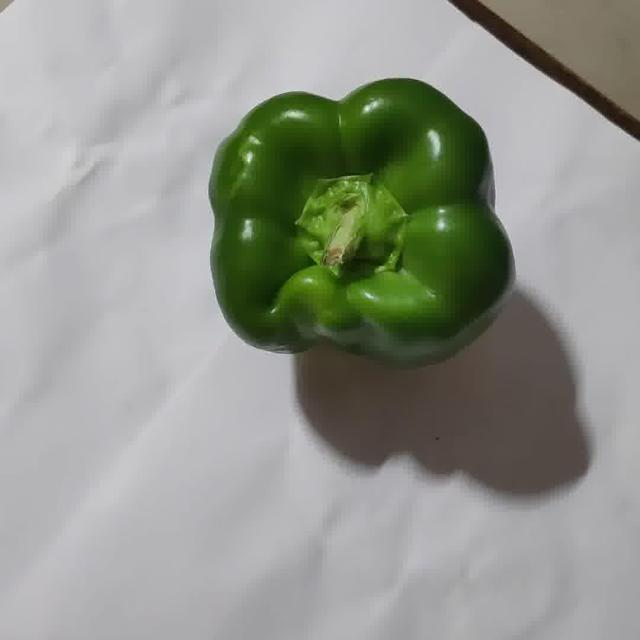Bell Pepper: (209, 78, 512, 362)
